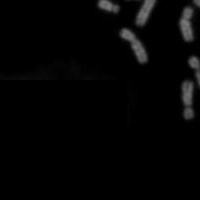chromosome: (119, 27, 146, 65), (134, 0, 167, 24), (180, 82, 195, 122), (179, 5, 194, 42), (189, 54, 200, 89), (97, 0, 118, 14), (193, 0, 200, 12), (125, 0, 143, 1)
